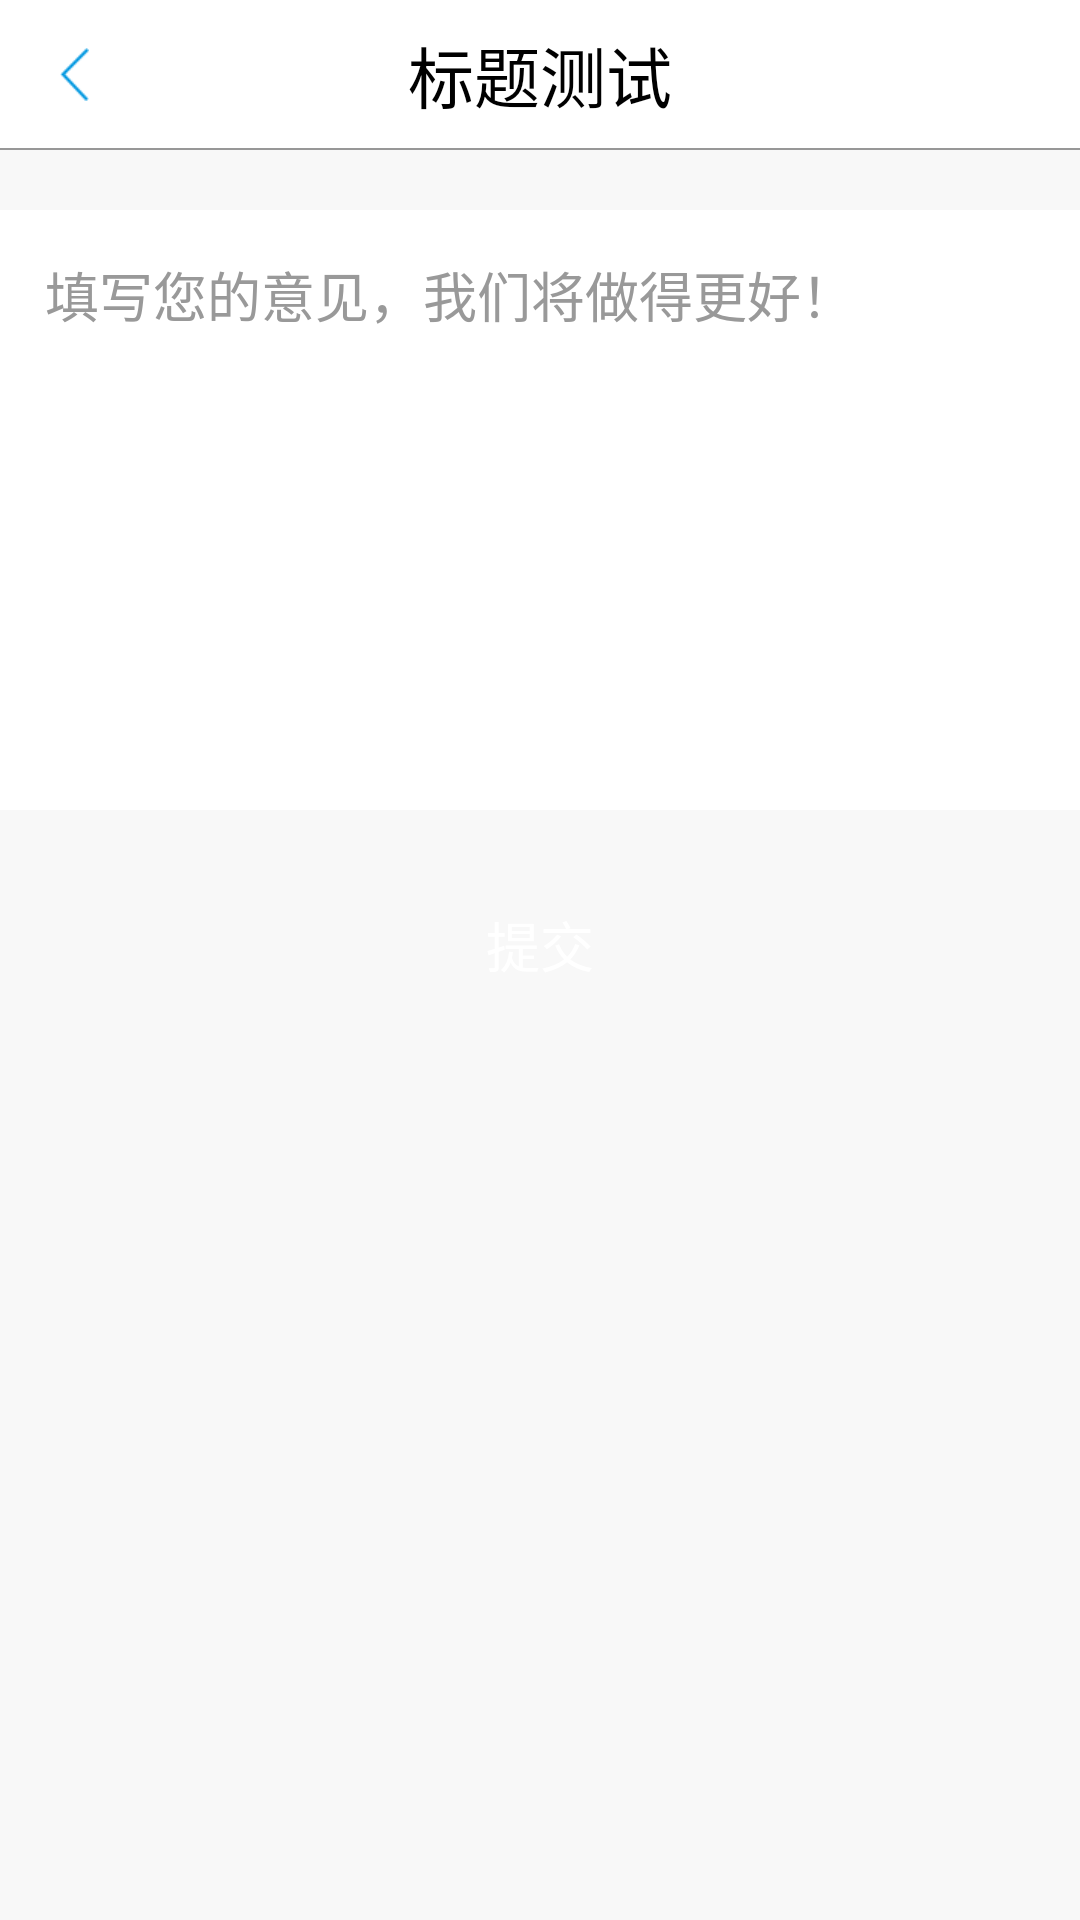

Where to tap for icons on this 1080x1920 app screen, as (x,y):
back: (74,74)
